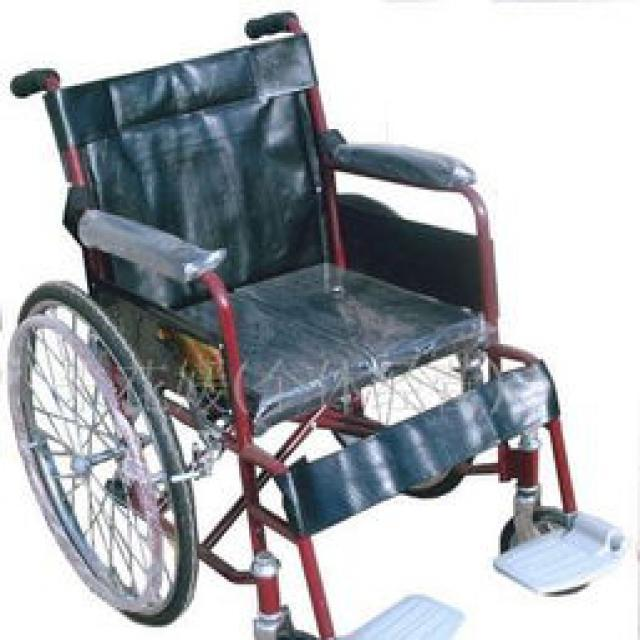wheelchairs: (10, 10, 621, 640)
